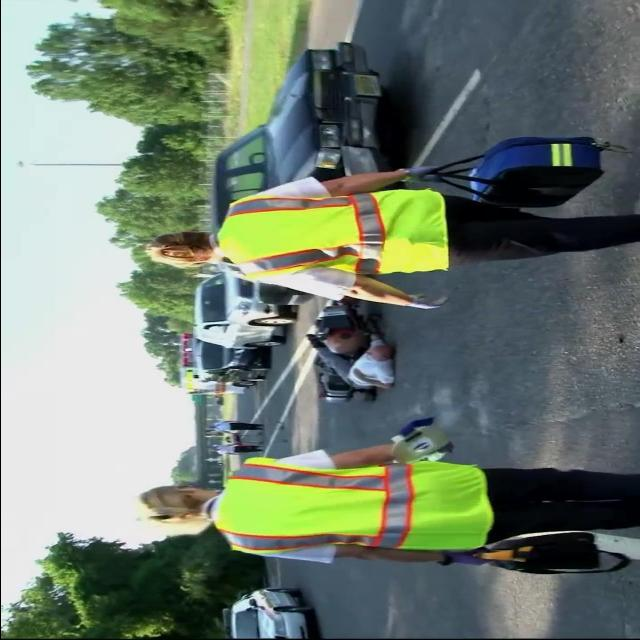jacket: (200, 448, 495, 568), (212, 186, 466, 276)
